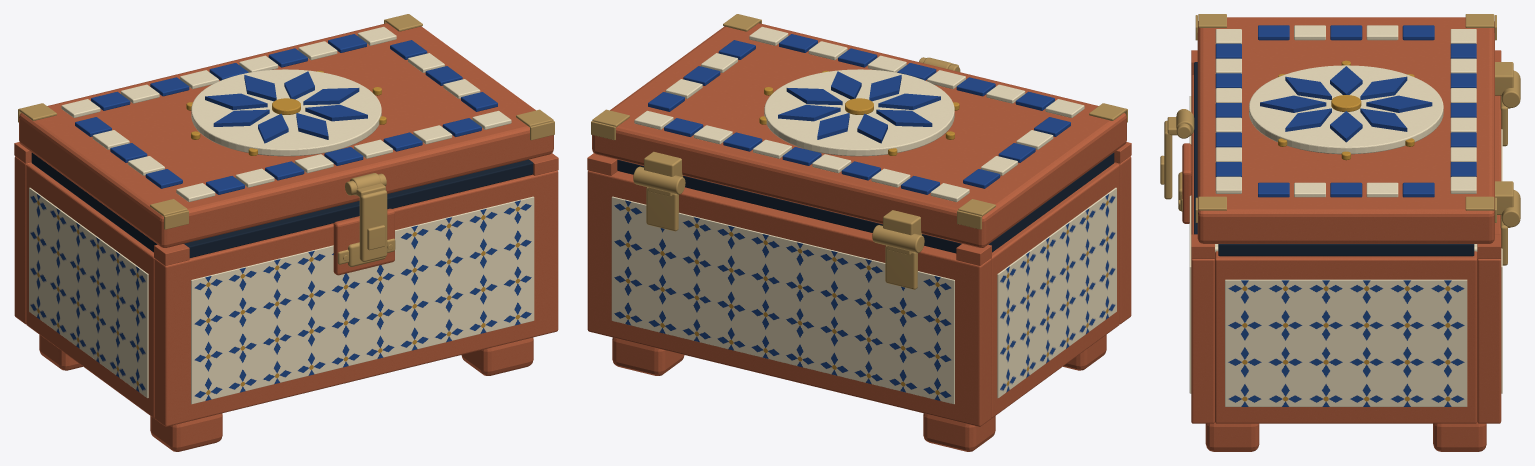
File: spain.glb
The picture shows the model from 3 angles, left to right: view 1: azimuth 30°, elevation 25°; view 2: azimuth 150°, elevation 25°; view 3: azimuth 270°, elevation 25°; orthographic projection. The views are drawn at different scales.
Visible parts, largest first — view 1: Lid / polished slab, Glaze panel / front, Clay / front, Glaze panel / side, Lid ornament / ivory medallion, Clay / side, Mineral seam / long, Clay / rear, Clay foot, Clay foot.002, Latch / lifting hasp, Clay / clasp seat (+11 smaller); view 2: Glaze panel / rear, Lid / polished slab, Clay / rear, Glaze panel / side, Lid ornament / ivory medallion, Clay / side, Mineral seam / long.001, Clay / front, Clay foot.001, Clay foot.003, Mineral seam / side, Hinge / fixed mount (+16 smaller); view 3: Lid / polished slab, Glaze panel / side.001, Clay / side.001, Lid ornament / ivory medallion, Clay / rear, Clay / front, Mineral seam / side.001, Clay foot.002, Clay foot.003, Lid ornament / cobalt petal.002, Lid ornament / cobalt petal.006, Clay / clasp seat (+53 smaller).
Part boxes in pixels (x1,y1,x2,y2): Lid / polished slab: (19,23,553,247); Glaze panel / front: (191,196,534,404); Clay / front: (154,170,558,426); Glaze panel / side: (29,187,148,398); Lid ornament / ivory medallion: (191,69,381,156); Clay / side: (26,163,154,418); Mineral seam / long: (184,159,533,257); Clay / rear: (14,156,31,324); Clay foot: (150,413,222,451); Clay foot.002: (461,337,533,375); Latch / lifting hasp: (359,190,387,261); Clay / clasp seat: (333,208,394,275); Glaze panel / rear: (611,196,954,404); Lid / polished slab: (592,23,1126,247); Clay / rear: (587,170,991,426); Glaze panel / side: (997,187,1116,398); Lid ornament / ivory medallion: (764,69,954,156); Clay / side: (991,163,1119,418); Mineral seam / long.001: (617,160,961,253); Clay / front: (1114,156,1131,324); Clay foot.001: (923,413,995,451); Clay foot.003: (612,337,684,375); Mineral seam / side: (988,153,1114,252); Hinge / fixed mount: (885,245,917,289); Lid / polished slab: (1197,17,1494,243); Glaze panel / side.001: (1225,279,1467,406); Clay / side.001: (1215,251,1477,423); Lid ornament / ivory medallion: (1249,65,1443,154); Clay / rear: (1477,95,1501,423); Clay / front: (1191,74,1214,423); Mineral seam / side.001: (1218,244,1474,256); Clay foot.002: (1205,422,1259,451); Clay foot.003: (1433,422,1486,451); Lid ornament / cobalt petal.002: (1366,95,1432,112); Lid ornament / cobalt petal.006: (1260,95,1326,112); Clay / clasp seat: (1182,143,1191,223).
Bounding box in the file's own units: 3.75 × 2.32 × 2.88.
7 materials, 3 textured.
